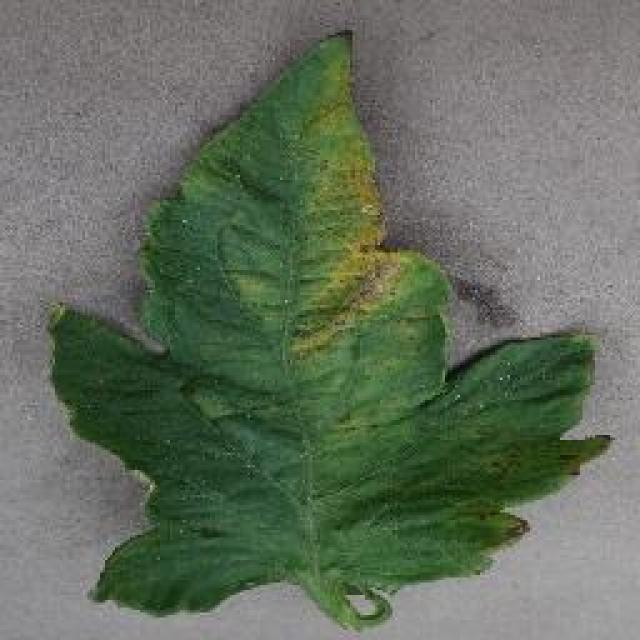Tomato bacterial spot leaf: (36, 24, 616, 618)
